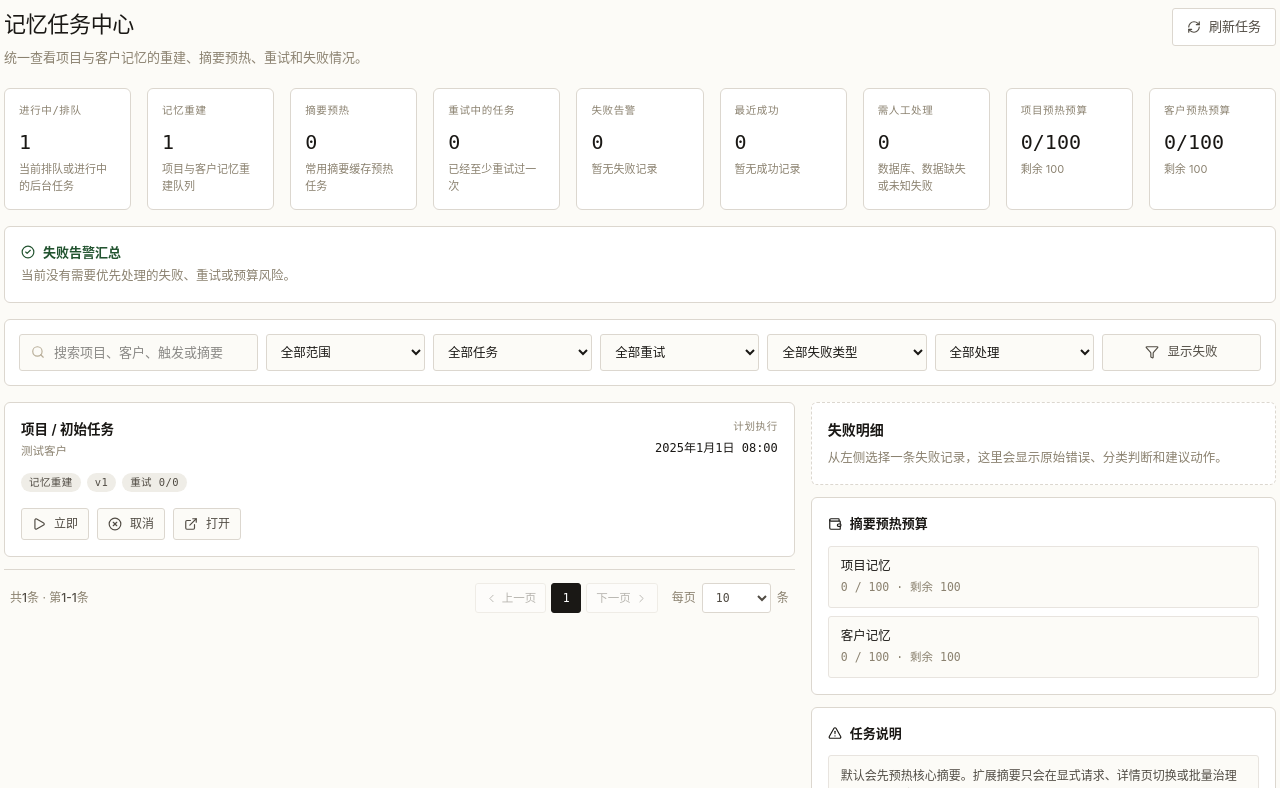
Test case: MemoryOperationsSettings › keeps the newest filters when summary requests finish out of order
The width and height of the screenshot is (1280, 788).
Expected: the text "项目 / 初始任务" is shown, [21, 421, 114, 437]
Type "旧" into the field with placeholder "搜索项目、客户、触发或摘要" at {"x": 138, "y": 352}, box [19, 334, 258, 371]
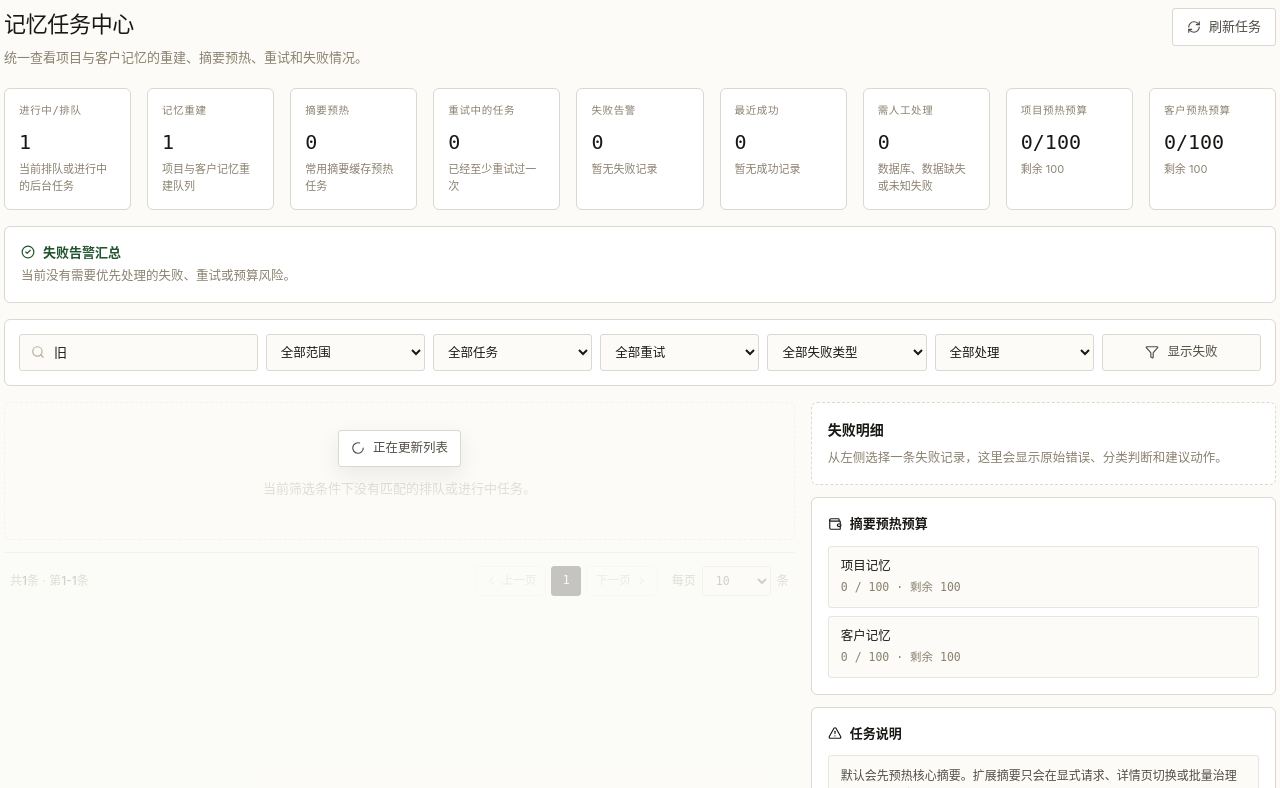
Replace the text in the field with placeholder "搜索项目、客户、触发或摘要" with "新" at {"x": 138, "y": 352}, box [19, 334, 258, 371]
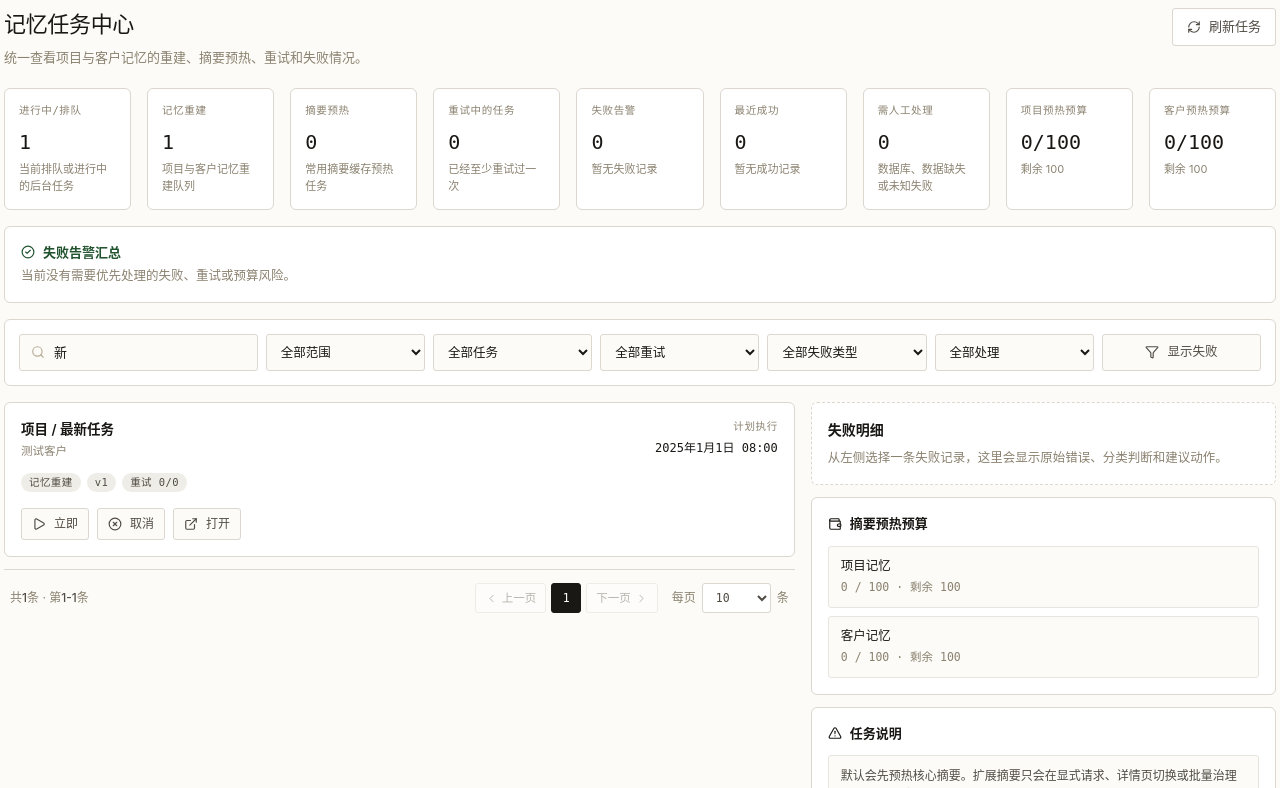
Expected: the text "项目 / 最新任务" is shown, [21, 421, 114, 437]
